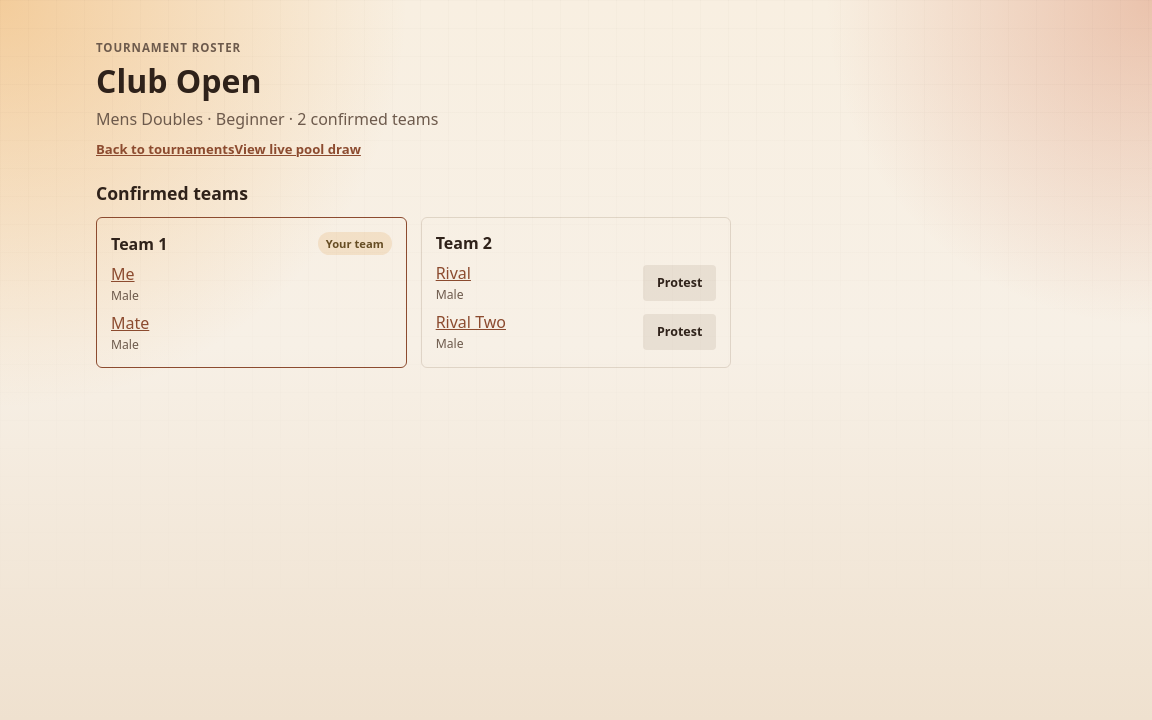
it: TournamentRosterPageComponent › requires a category, a detailed reason, and evidence before submitting
Click the 2nd button "Protest" at point(680, 332), box 643,314 -> 716,350
(page scrolled)
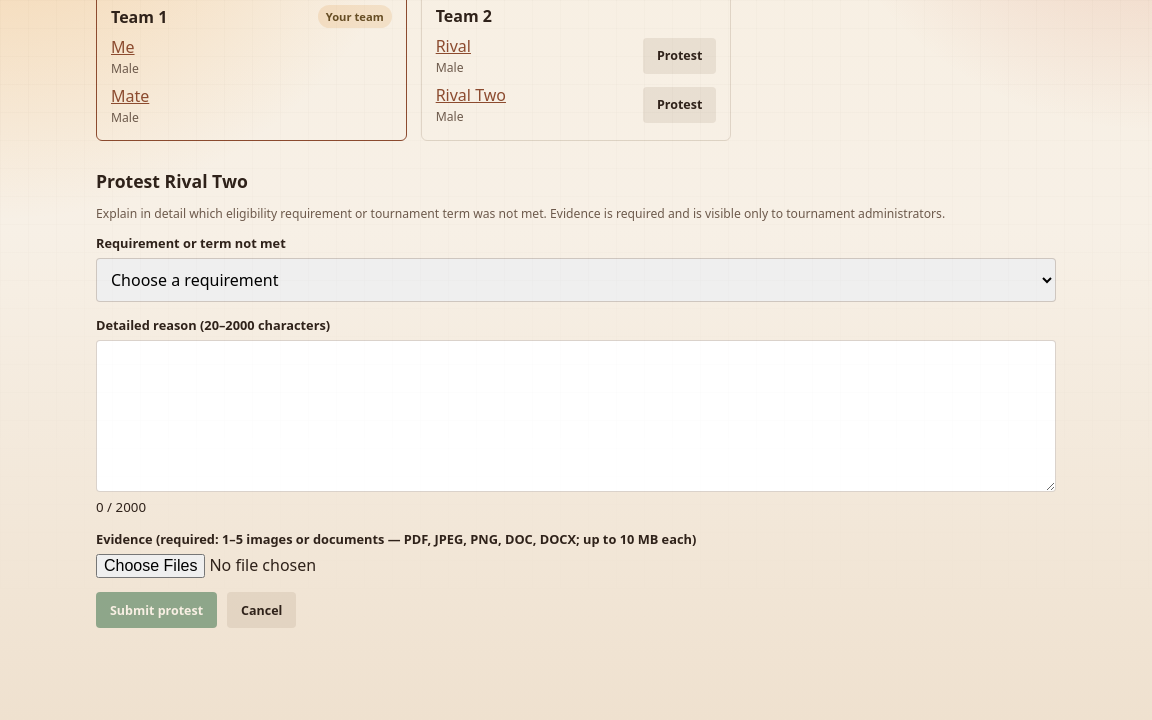
expect the submit button is disabled: met, box 96,592 -> 217,628
